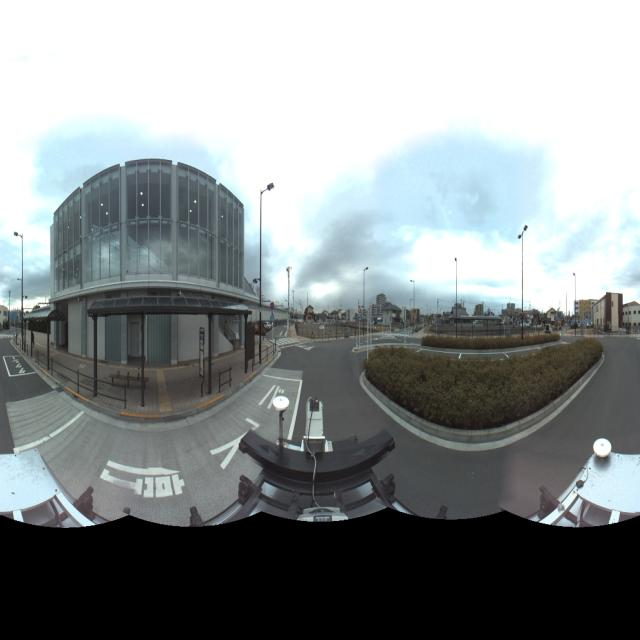b_1: (45, 175, 249, 366), (592, 286, 623, 334), (573, 294, 595, 330), (623, 295, 640, 333)
